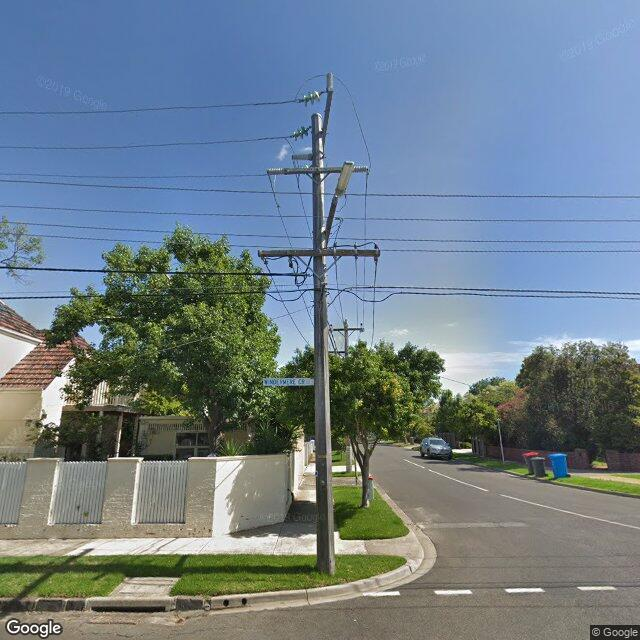HV-transmission: (290, 71, 334, 142), (267, 152, 369, 178), (328, 322, 366, 337)
concrete-pole: (313, 113, 337, 576)
crossarm: (258, 242, 382, 269), (322, 92, 333, 142), (284, 166, 352, 173), (330, 328, 365, 331), (328, 350, 352, 353)
streetlight: (323, 159, 355, 237)
timber-pole: (344, 320, 349, 357)
